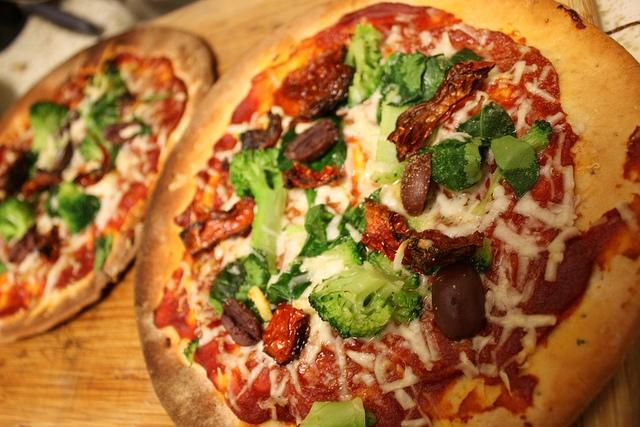broccoli: (307, 250, 423, 340), (471, 119, 554, 217), (228, 147, 288, 275), (342, 22, 384, 109), (58, 182, 100, 235), (28, 101, 68, 156), (300, 396, 366, 427), (0, 196, 35, 243), (86, 88, 121, 129), (78, 124, 113, 162)
